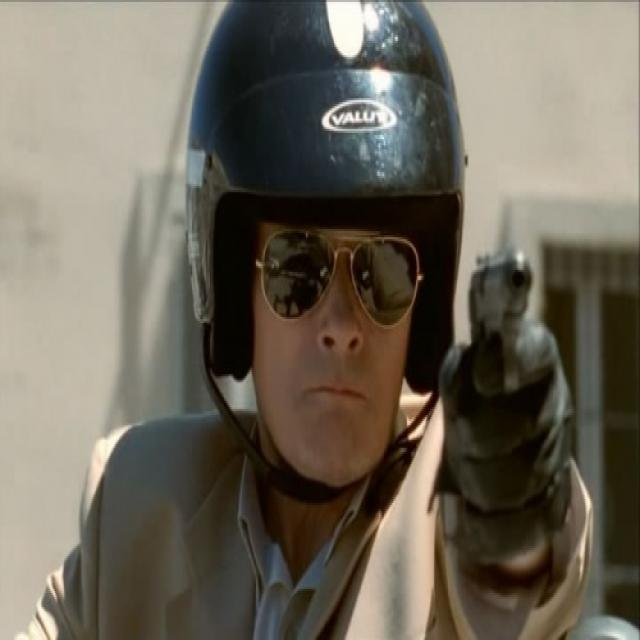weapons: (443, 228, 555, 439)
